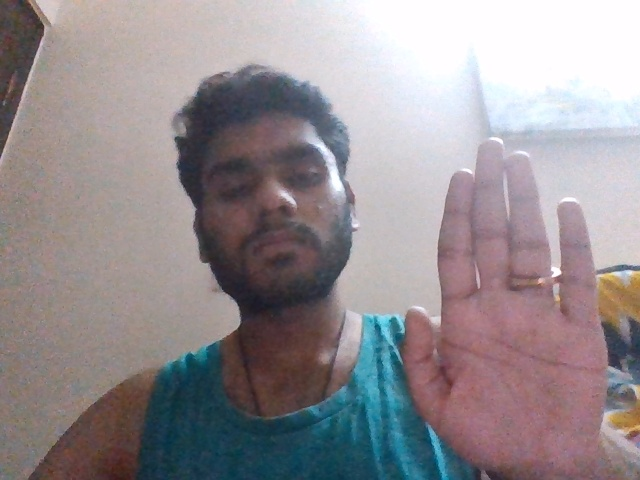hello: (395, 133, 615, 475)
